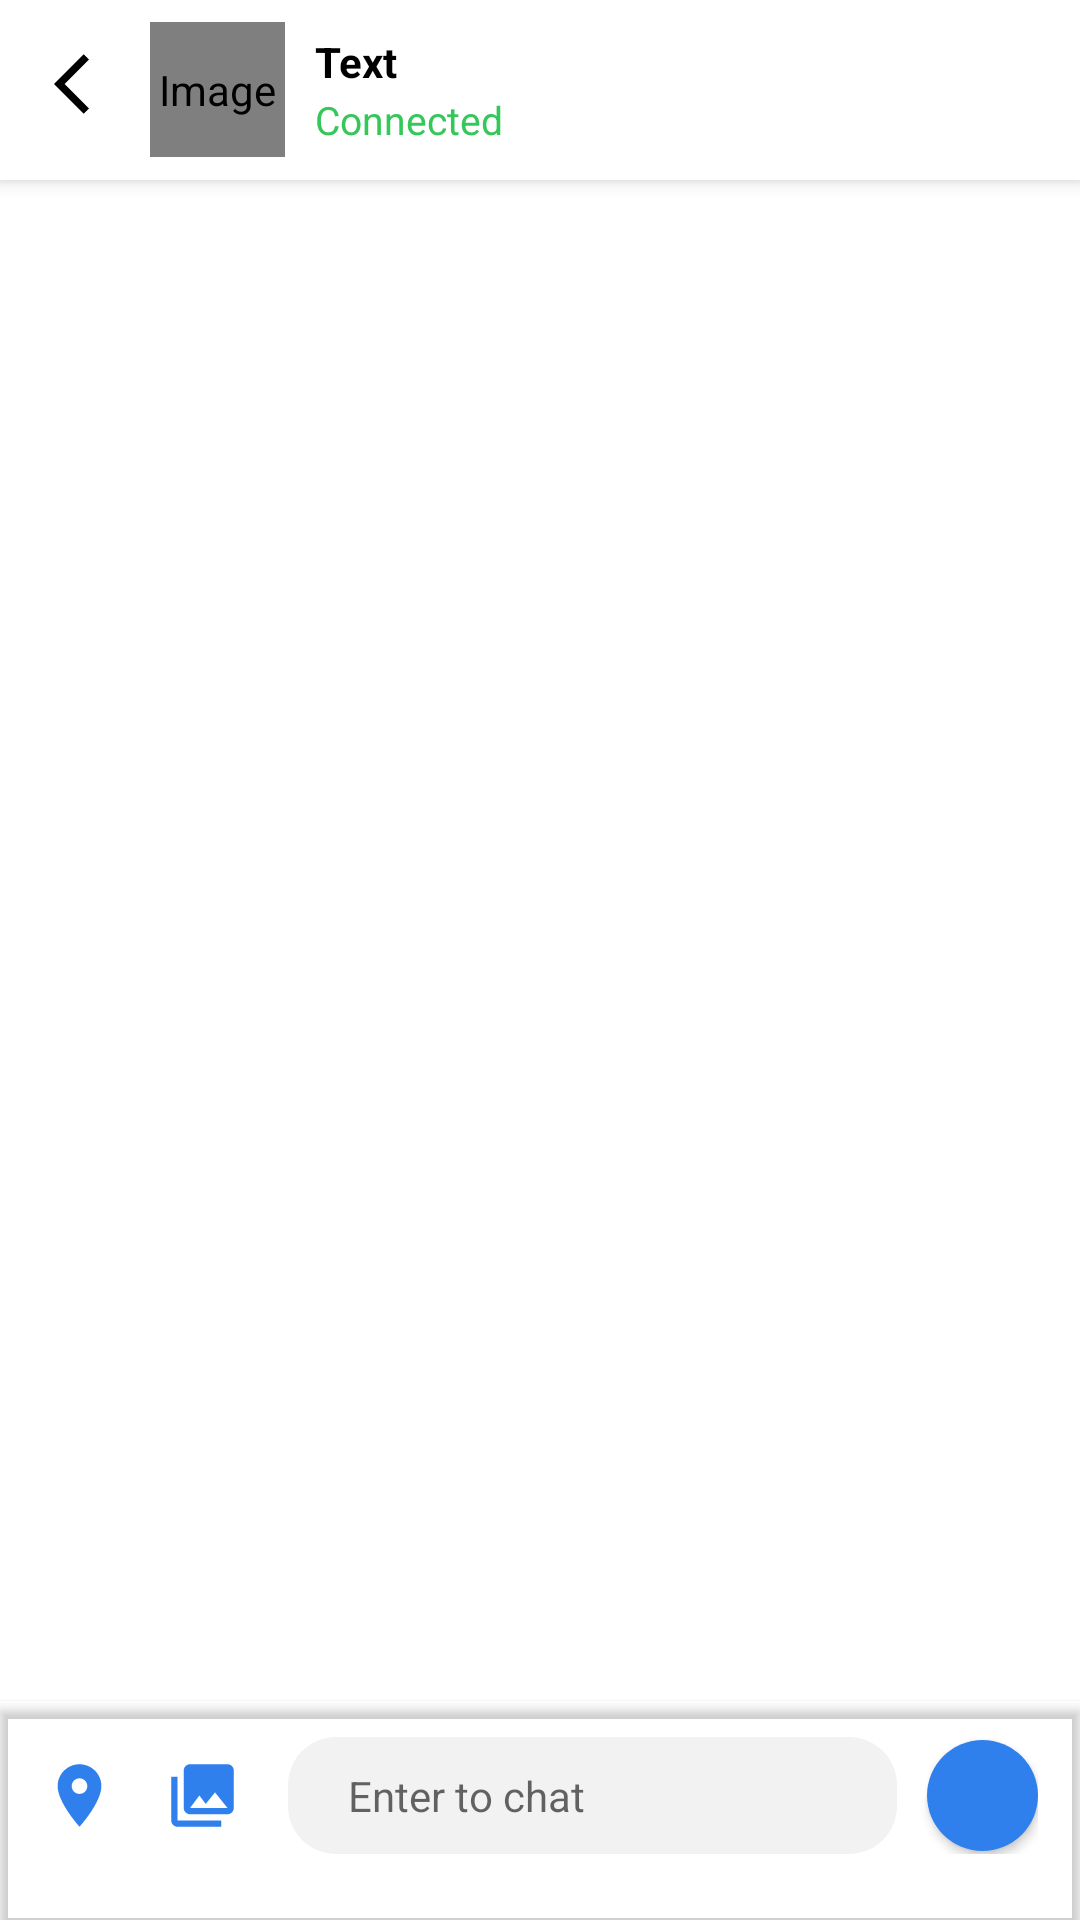

Where to tap for icons on this 1080px x 1920px app screen, as (x=x, y=y):
back: (x=71, y=84)
file: (x=202, y=1795)
location: (x=79, y=1795)
